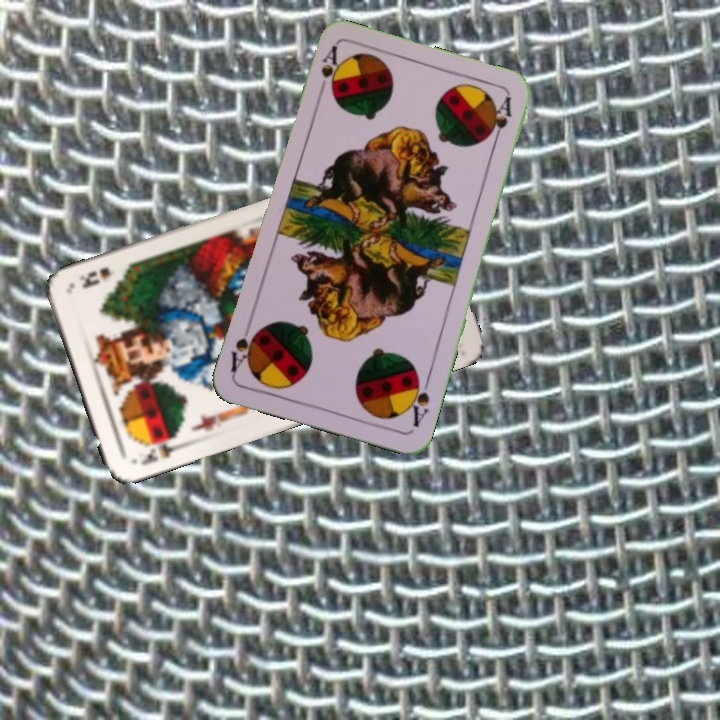SA: (403, 370, 433, 430), (313, 42, 341, 99)
SK: (128, 431, 185, 468)
